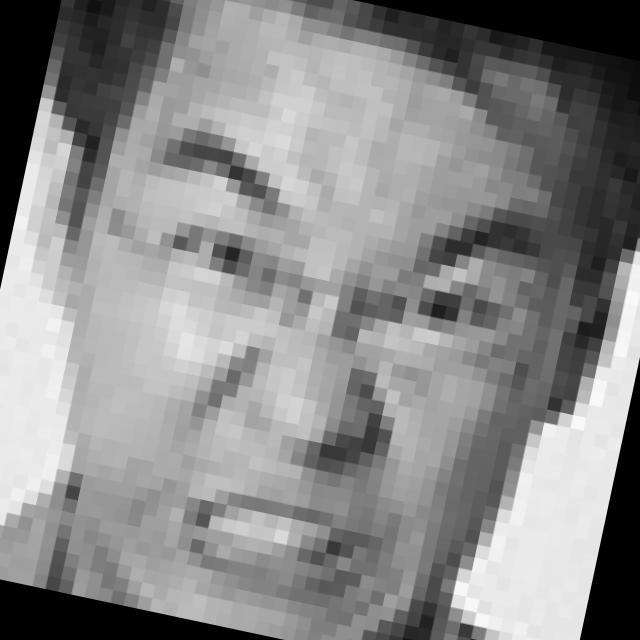angry: (63, 124, 554, 638)
